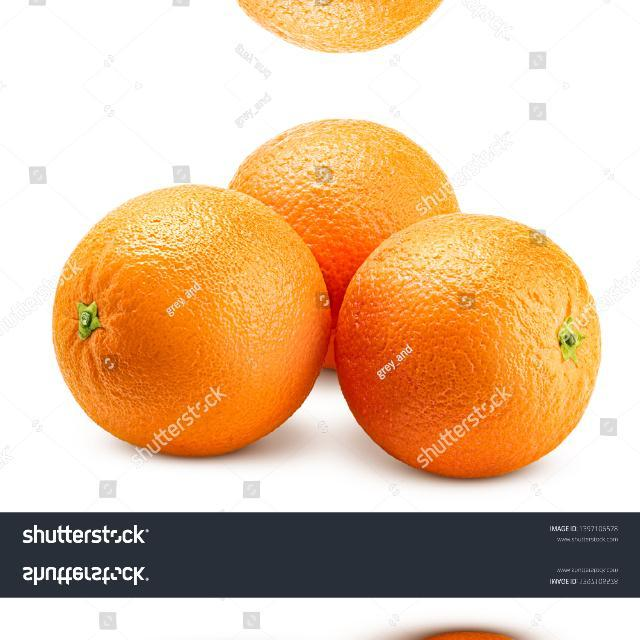Orange: (50, 182, 332, 457), (332, 211, 602, 479), (227, 116, 460, 369), (230, 0, 457, 53)
